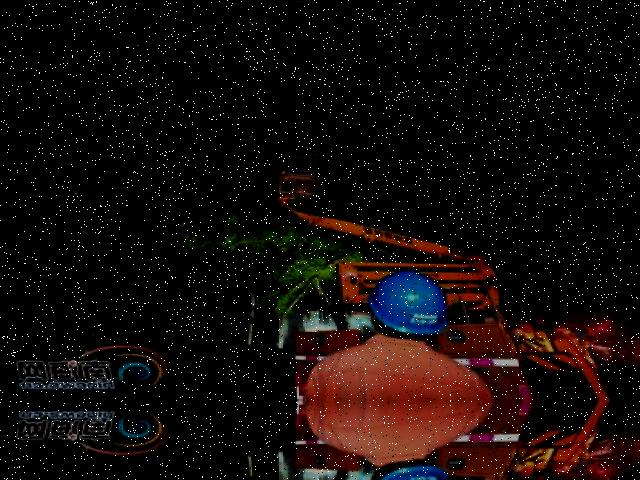Helmet: (365, 262, 458, 343)
